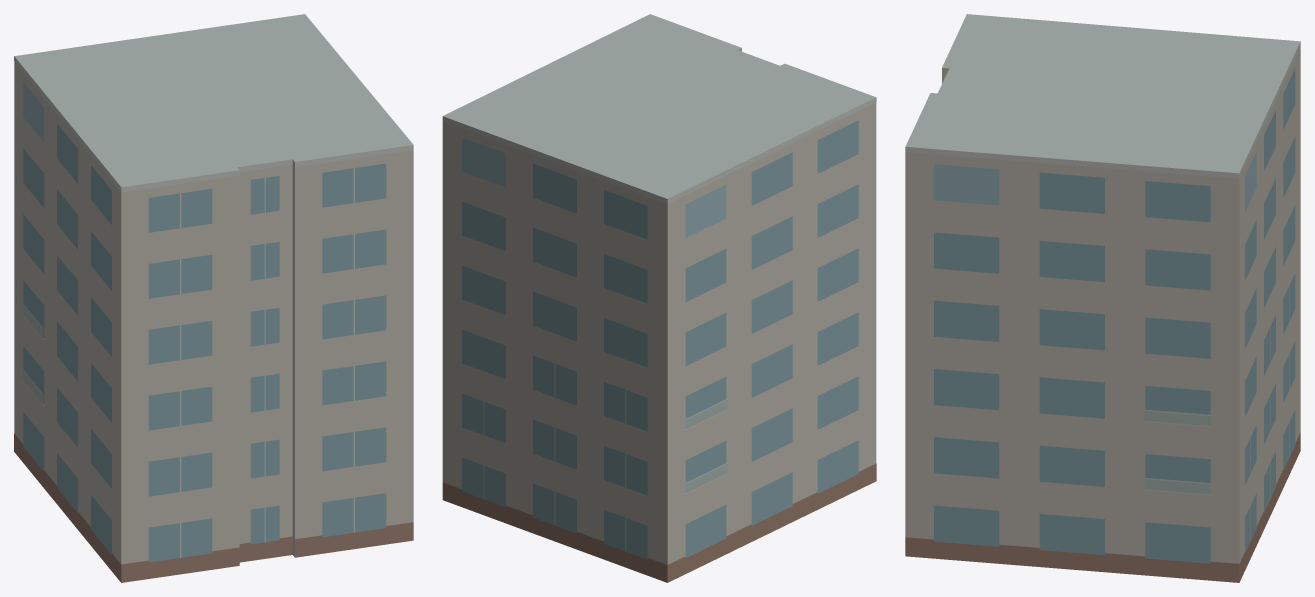
Rendered from survey-upis-32577703.glb.
The picture shows the model from 3 angles, left to right: view 1: azimuth 30°, elevation 25°; view 2: azimuth 150°, elevation 25°; view 3: azimuth 270°, elevation 25°; orthographic projection. The views are drawn at different scales.
Parts seen in each view (by area): view 1: survey-upis-32577703.tmp; view 2: survey-upis-32577703.tmp; view 3: survey-upis-32577703.tmp.
Boxes of the visible parts, x1,y1,x2,y2 form: survey-upis-32577703.tmp: (14,14,413,582); survey-upis-32577703.tmp: (442,14,876,582); survey-upis-32577703.tmp: (905,14,1300,582).
Bounding box in the file's own units: 15.28 × 18.3 × 16.01.
